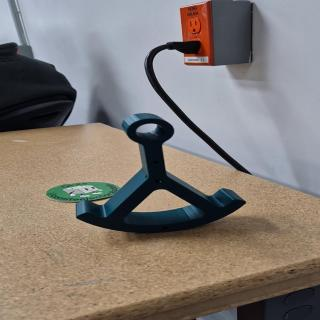haptic: (74, 112, 248, 234)
